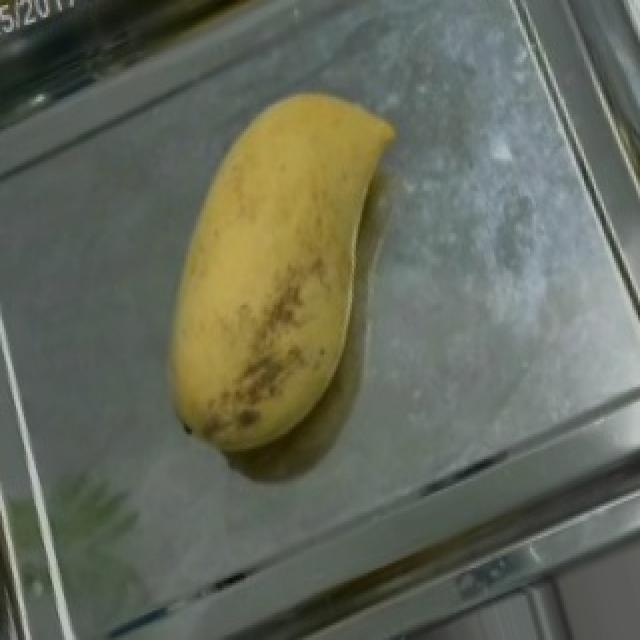fruit: (120, 39, 450, 422)
